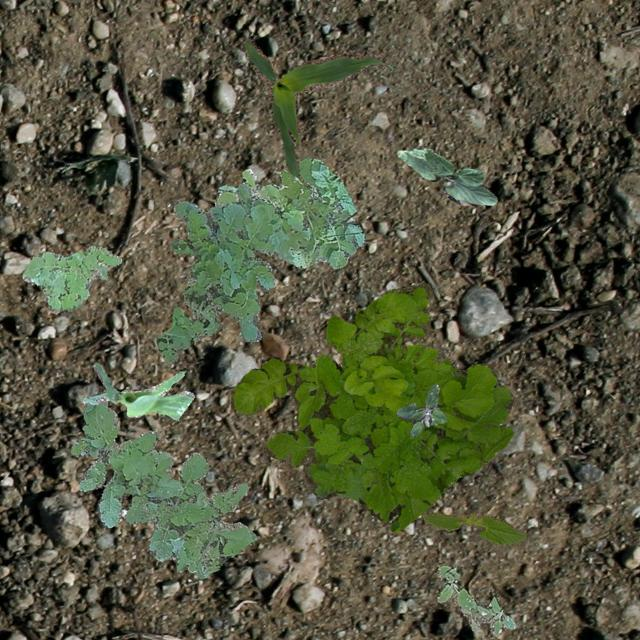crop: (240, 40, 392, 182), (82, 362, 194, 418), (396, 148, 496, 205), (422, 512, 526, 544)
weed: (230, 282, 512, 530), (156, 156, 364, 362), (70, 400, 256, 578), (21, 245, 120, 312), (436, 564, 514, 636), (396, 382, 446, 437), (214, 168, 268, 204), (354, 306, 362, 312)
